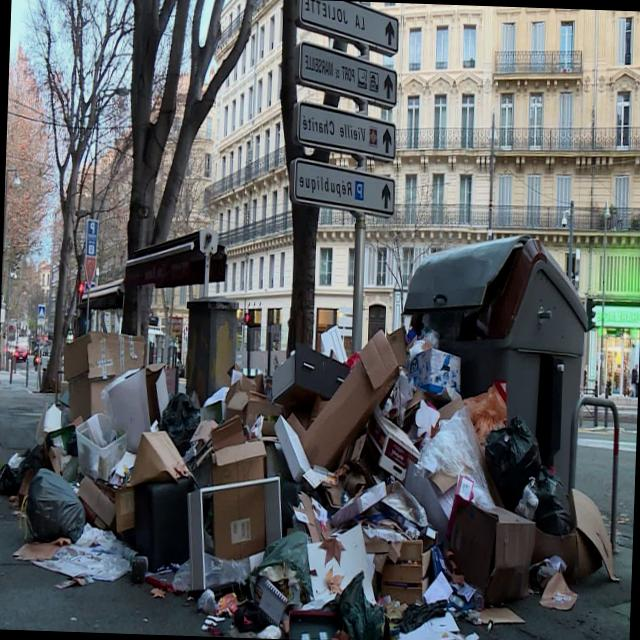garbage: (0, 251, 526, 633)
